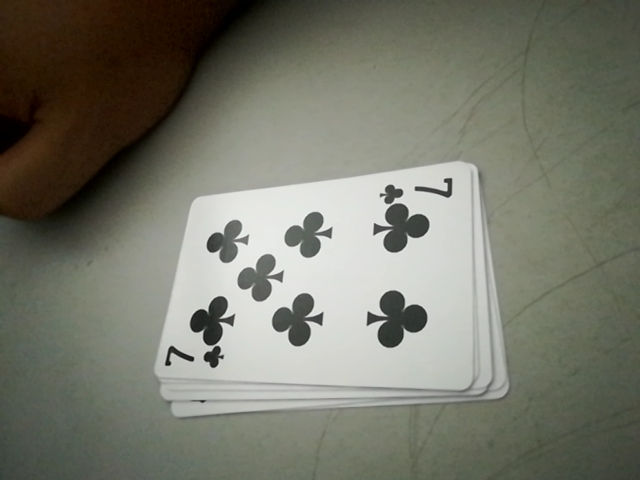mh 7: (380, 172, 463, 204), (160, 341, 223, 379)
